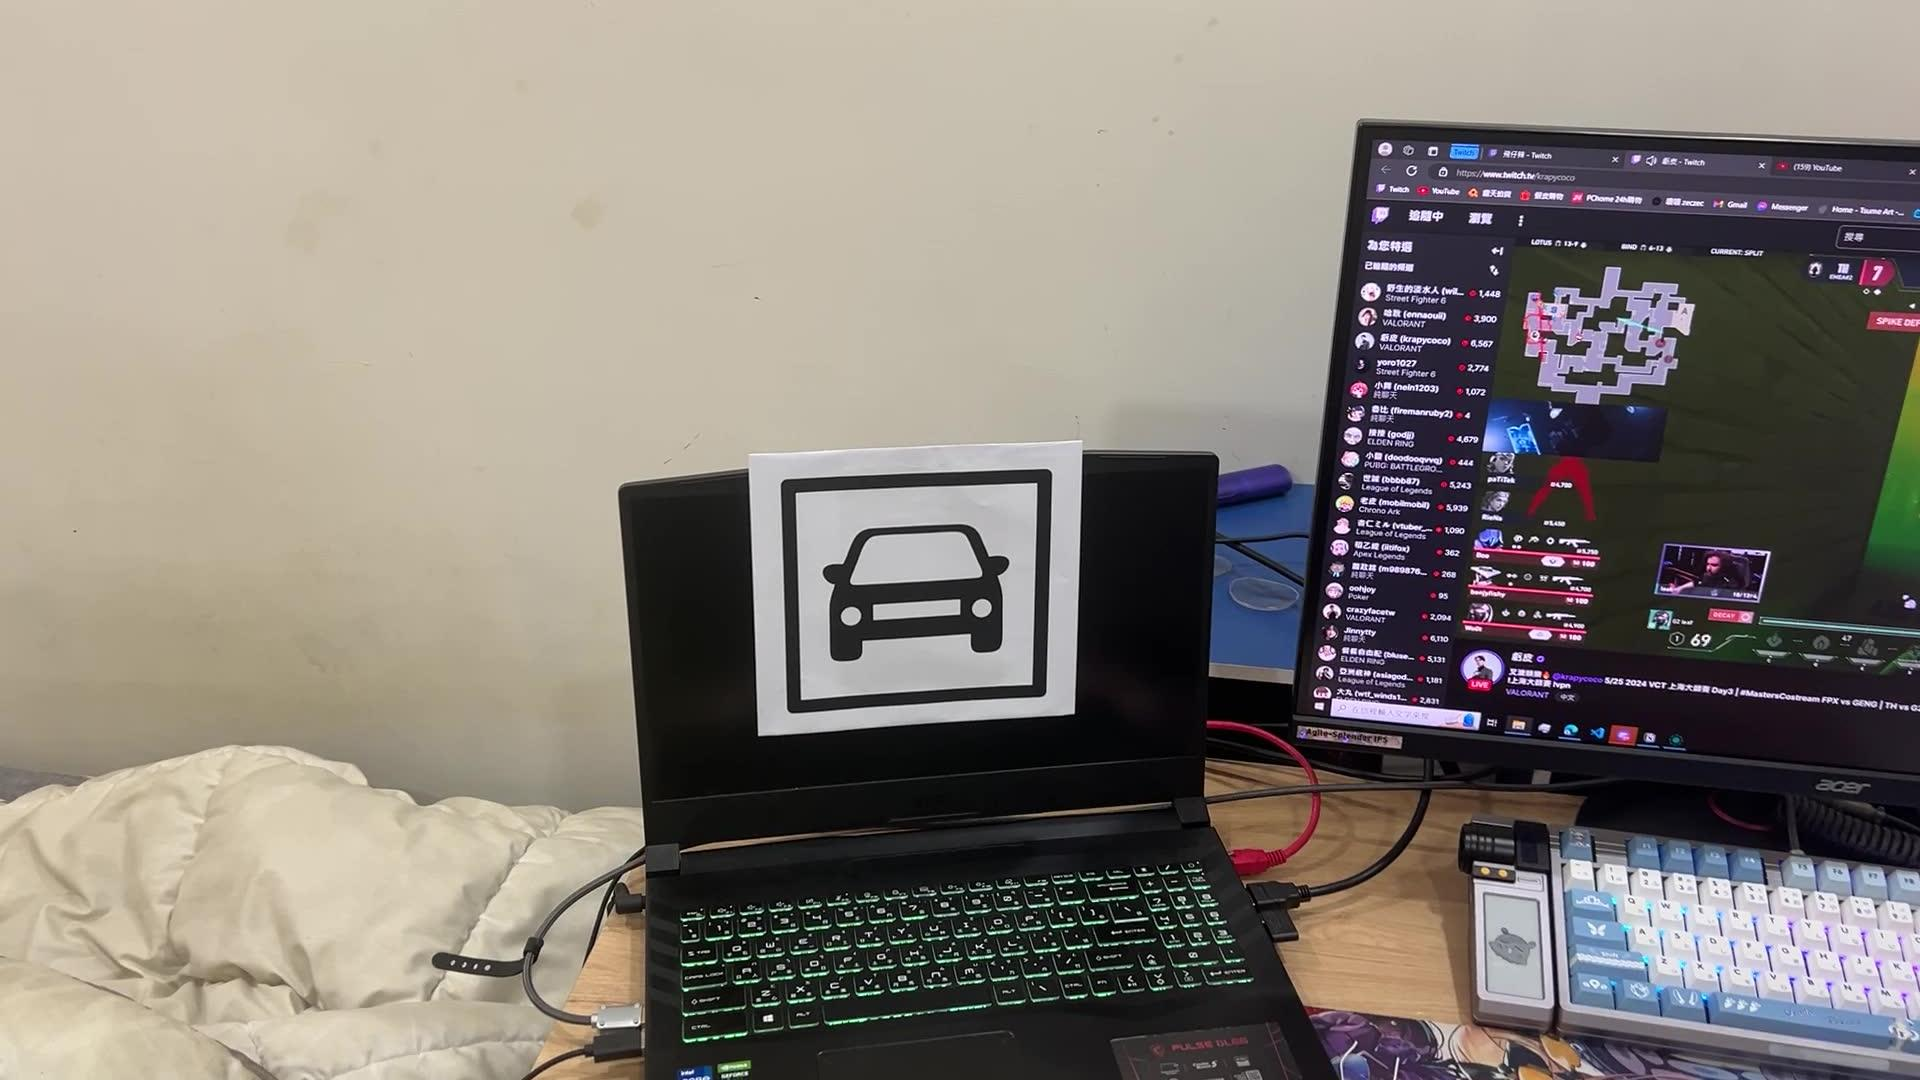car_img: (779, 467, 1055, 716)
